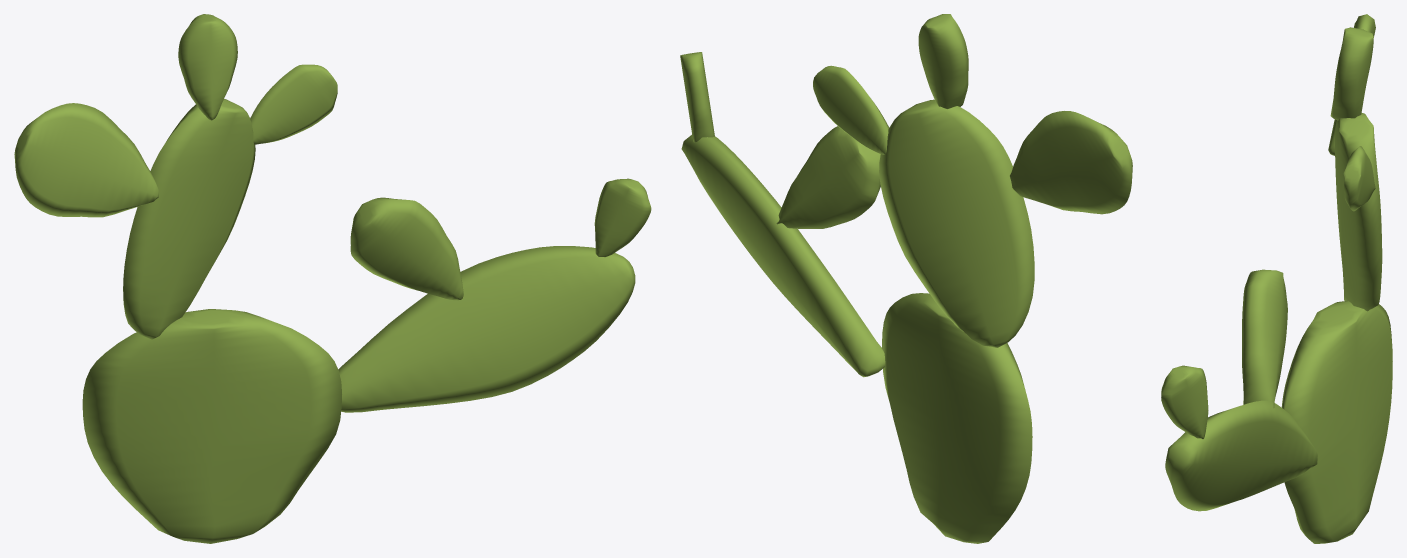
The model's file is SmallCactusVar3.fbx.
The picture shows the model from 3 angles, left to right: view 1: azimuth 30°, elevation 25°; view 2: azimuth 150°, elevation 25°; view 3: azimuth 270°, elevation 25°; orthographic projection. The views are drawn at different scales.
Visible parts, largest first — view 1: SmallCactus3; view 2: SmallCactus3; view 3: SmallCactus3.
Part boxes in pixels (left/top/right/bottom): SmallCactus3: left=14, top=14, right=651, bottom=543; SmallCactus3: left=680, top=14, right=1132, bottom=543; SmallCactus3: left=1161, top=14, right=1392, bottom=543.
Bounding box in the file's own units: 1.28 × 1.17 × 0.4834.
